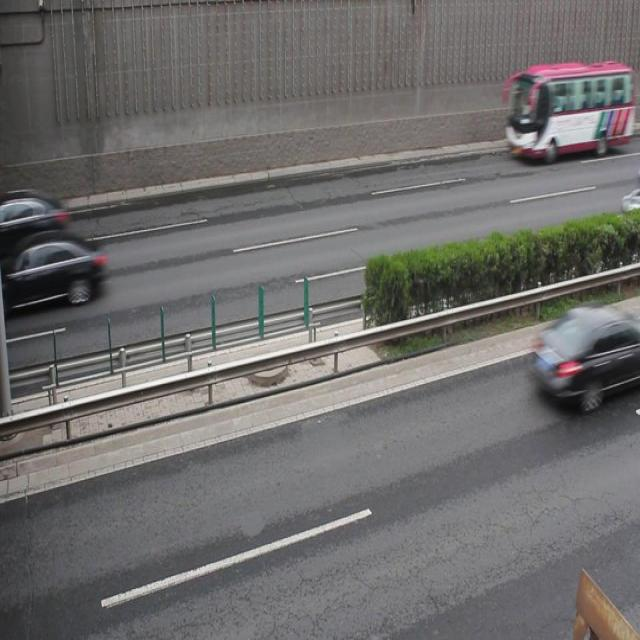car: (527, 308, 640, 407), (11, 229, 107, 309), (1, 185, 68, 254)
van: (503, 60, 630, 160)
